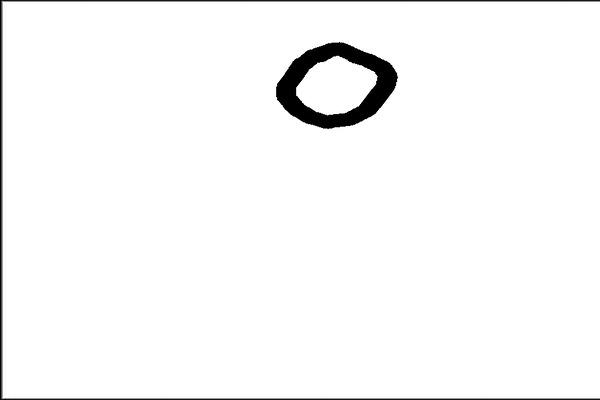O: (268, 39, 404, 135)
